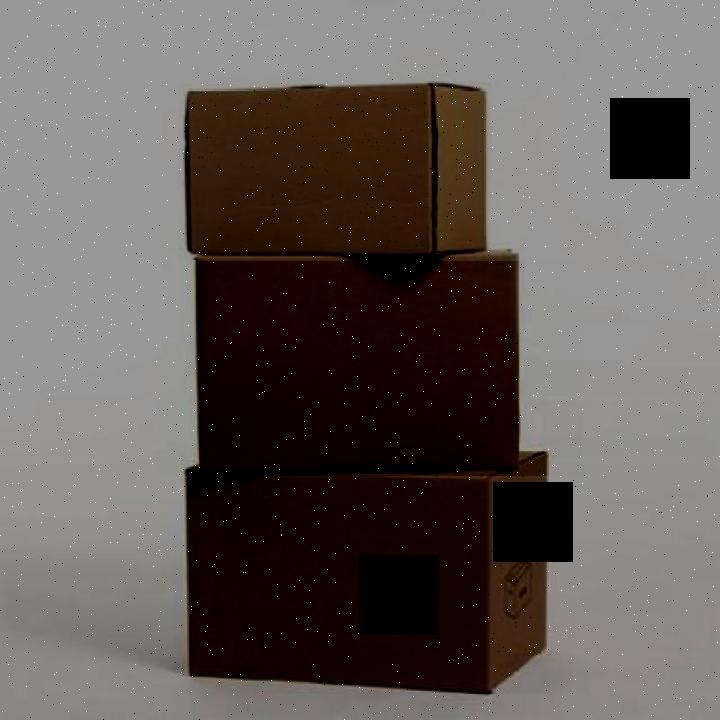box: (156, 261, 583, 476), (173, 478, 573, 694), (170, 67, 504, 260)
